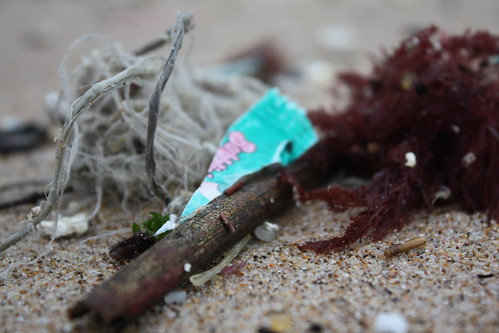trash: (8, 6, 499, 333)
